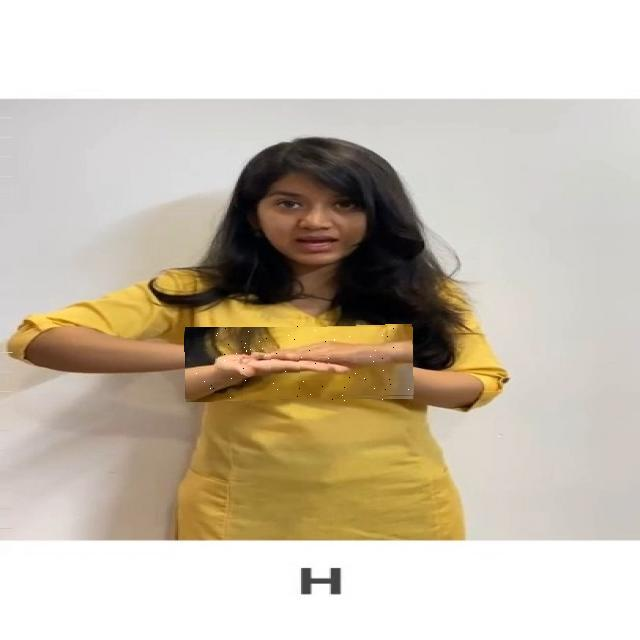H: (184, 326, 414, 401)
